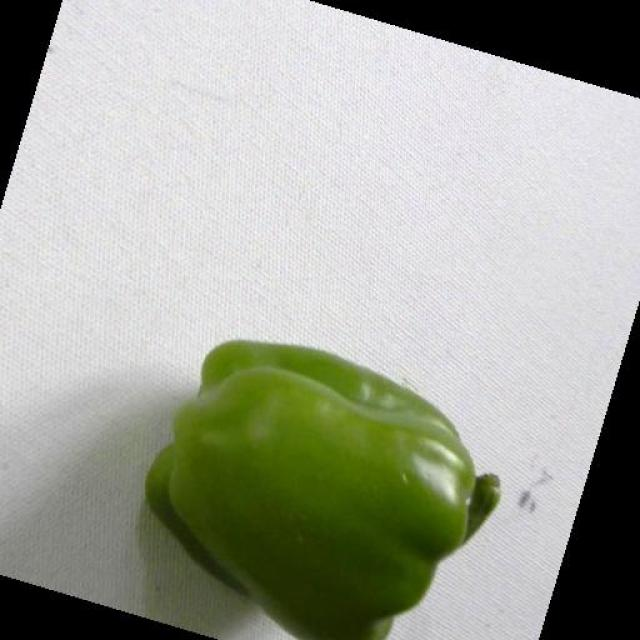Fresh_Capsicum: (191, 329, 468, 640)
